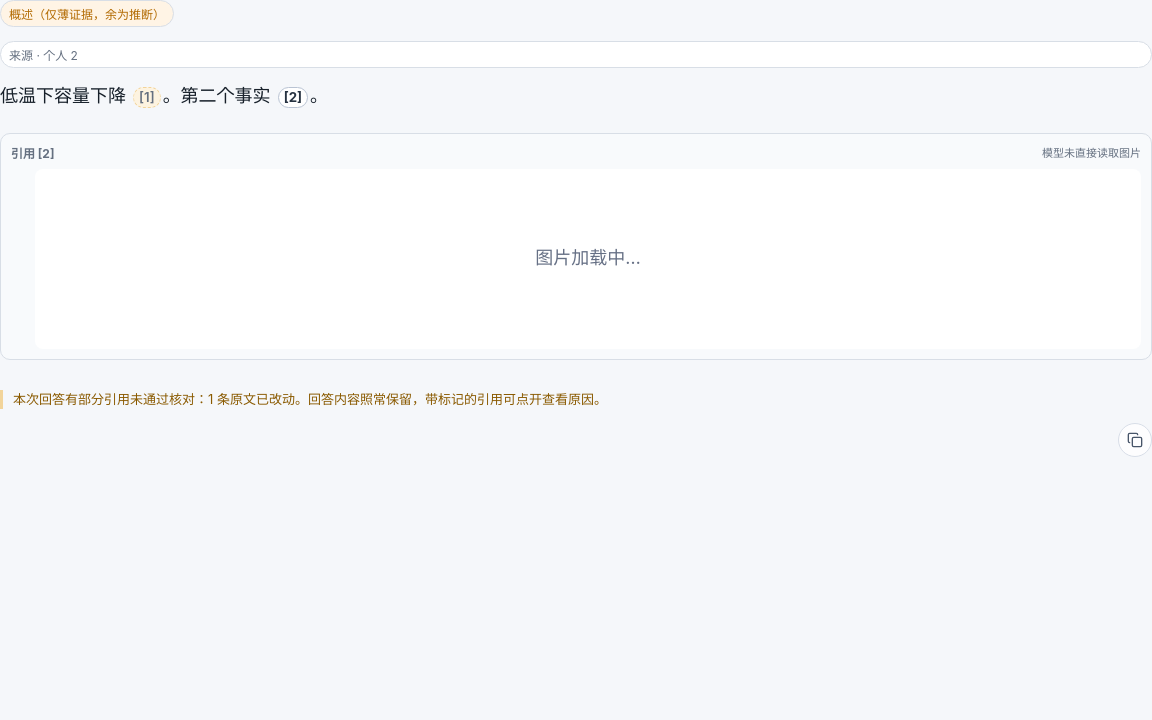
Test: the clean card in the same answer still offers every exit
Click the button "[2]" at (293, 98), box [278,87,308,108]
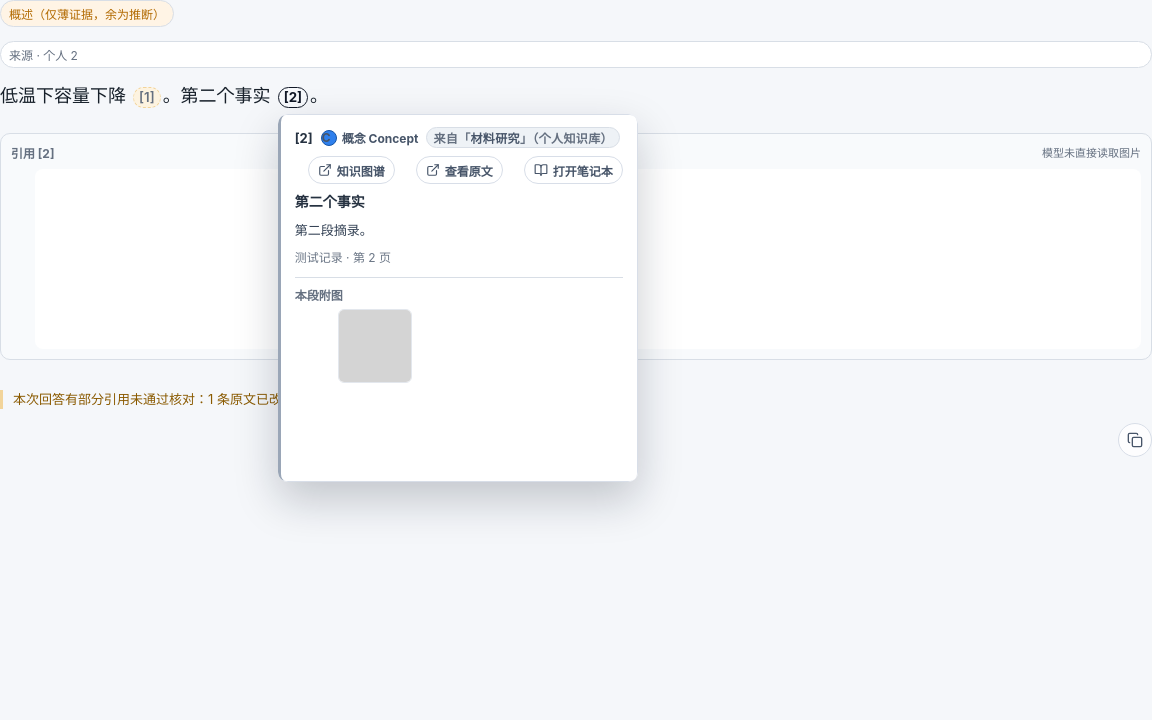
expect the button "知识图谱" is shown: met, box [308,156,395,184]
expect the button "查看原文" is shown: met, box [416,156,503,184]
expect the link "打开笔记本" is shown: met, box [524,156,623,184]
